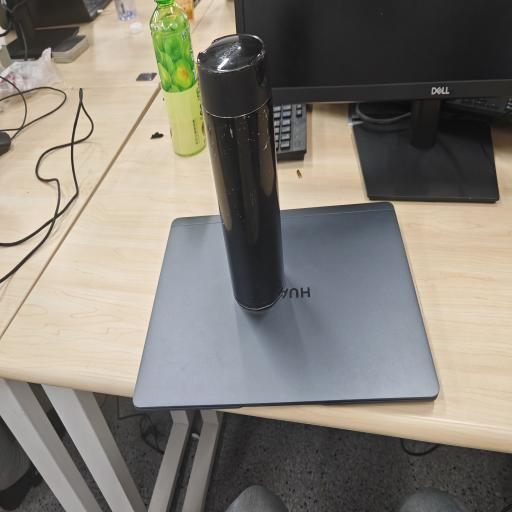laptop: (129, 201, 441, 409)
mouse: (0, 132, 11, 155)
